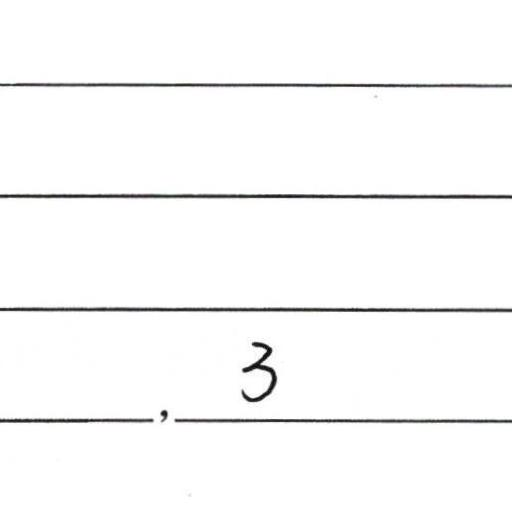ans: (236, 335, 281, 405)
